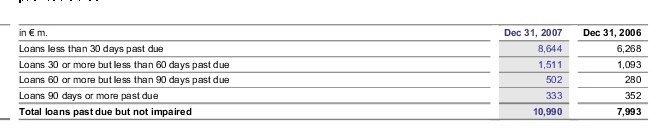table: (0, 0, 672, 136)
